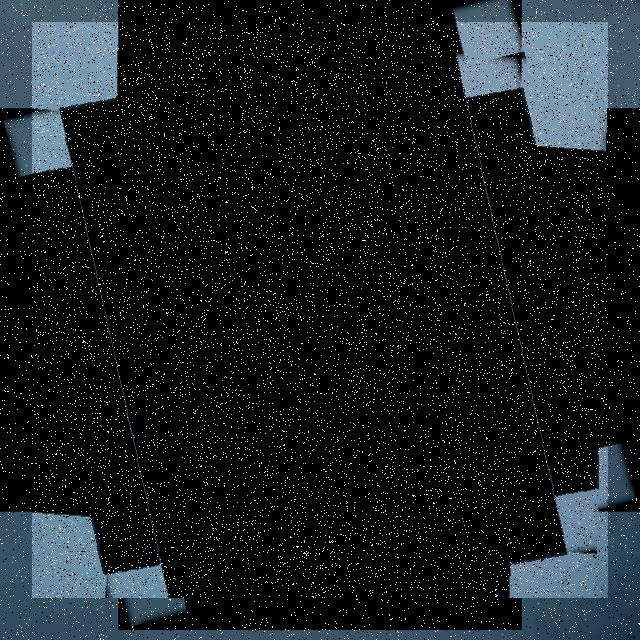dua ribu rupiah: (32, 22, 608, 598)
